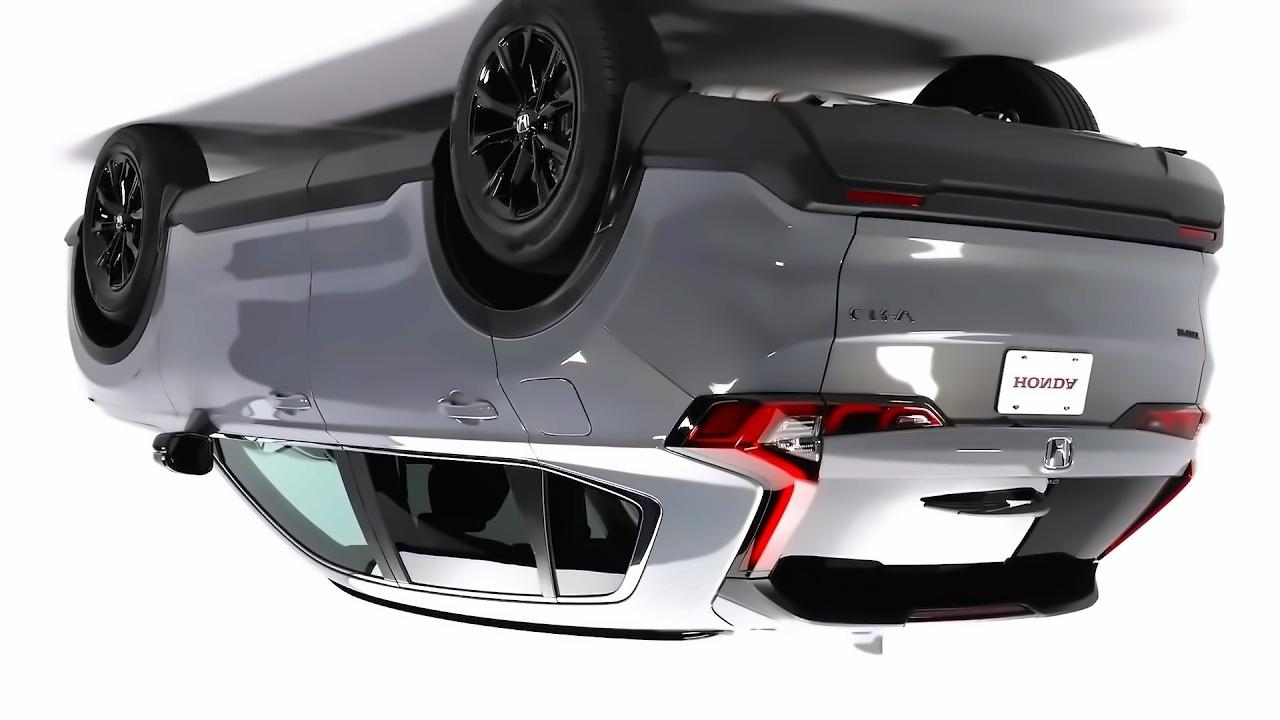Car boot: (787, 212, 1225, 518)
Driver-s door - -F-R-: (149, 80, 407, 611)
Fender - -F-R-: (68, 245, 187, 444)
Fender - -R-R-: (460, 281, 732, 613)
Passenger-s door - -R-R-: (281, 116, 566, 639)
Rear bumper: (611, 70, 1225, 262)
Rear light - -R-: (658, 390, 957, 579)
Side bumper - -R-: (161, 109, 468, 316)
Side mirror - -R-: (146, 418, 226, 492)
